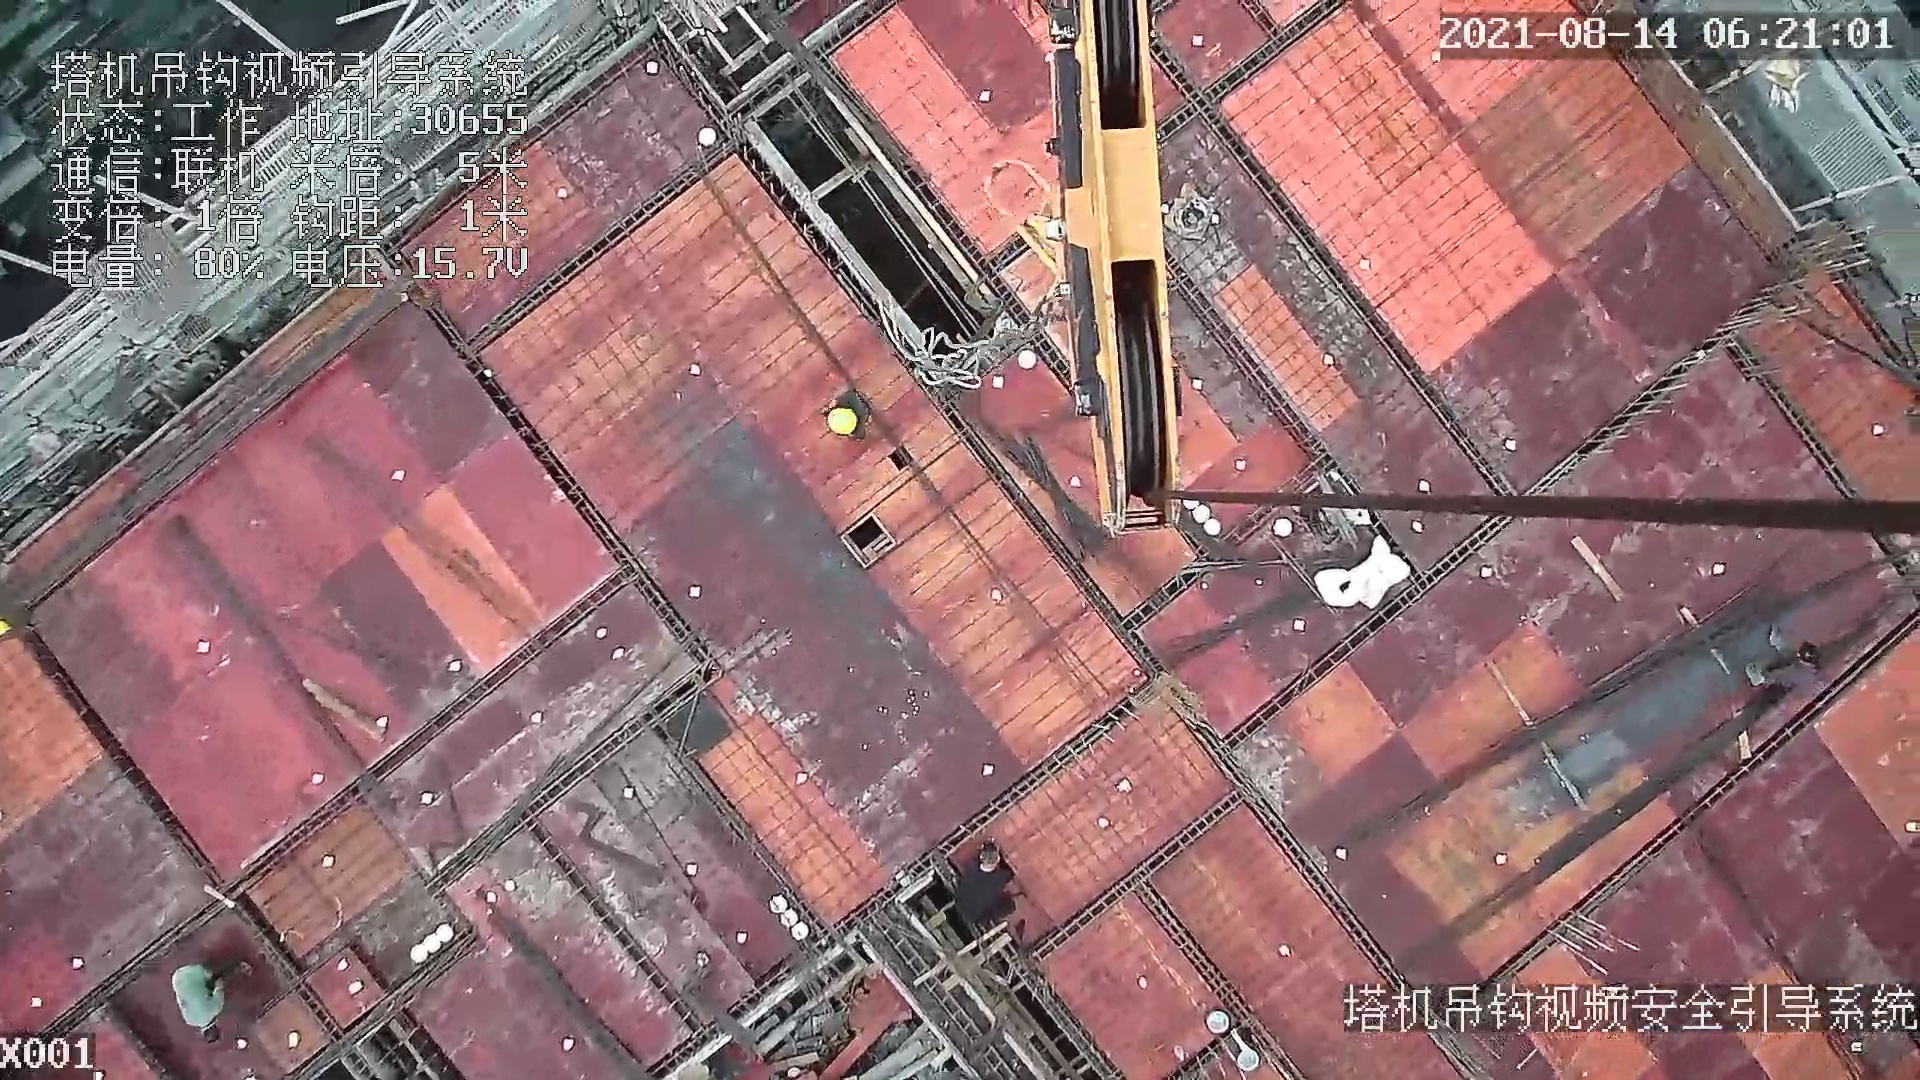helmet: (828, 404, 863, 438)
hook: (974, 4, 1190, 539)
person: (817, 390, 877, 445)
